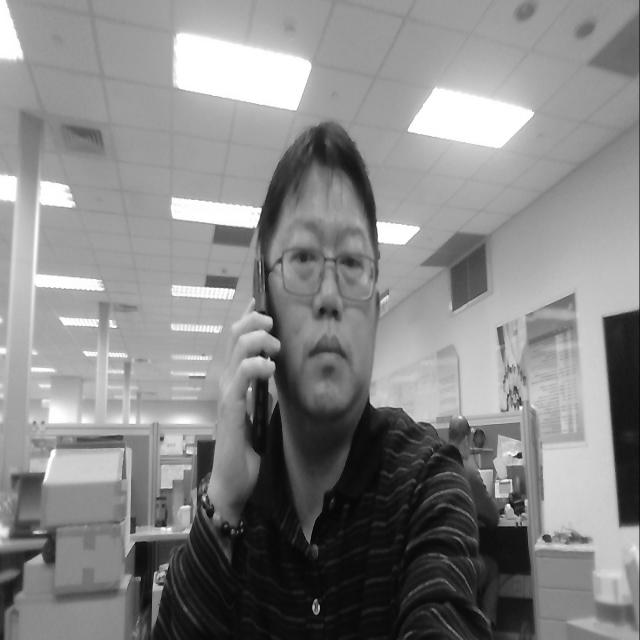phone: (207, 234, 295, 501)
